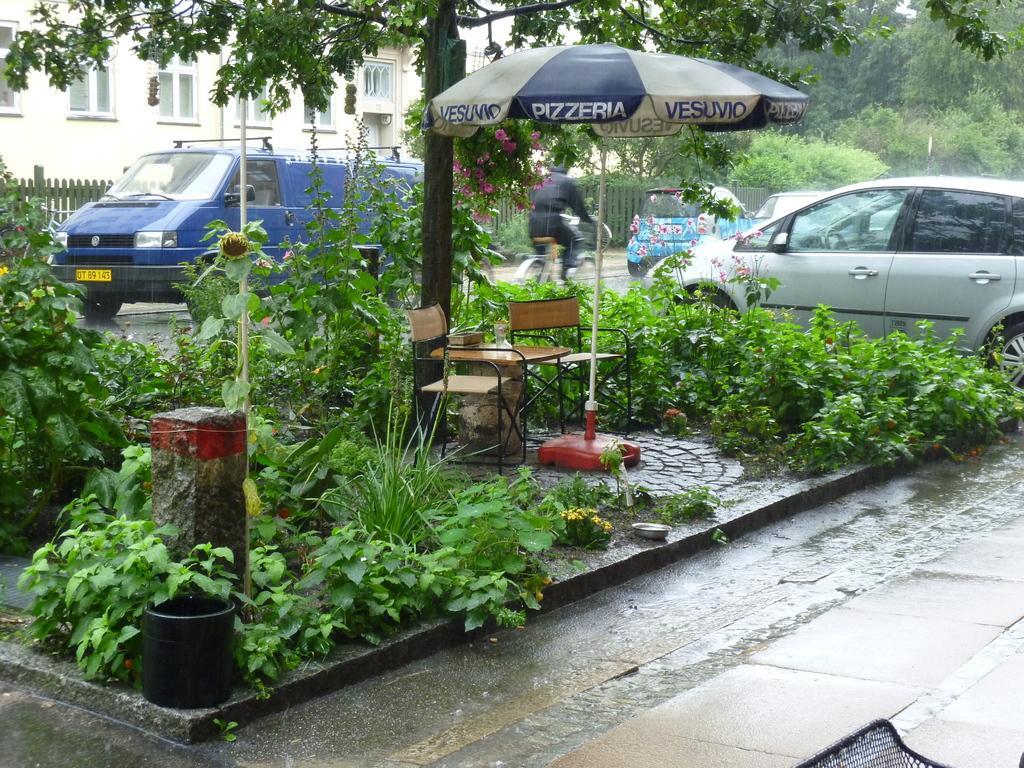vehicle: (644, 173, 1024, 399), (49, 147, 424, 316), (628, 186, 752, 278)
